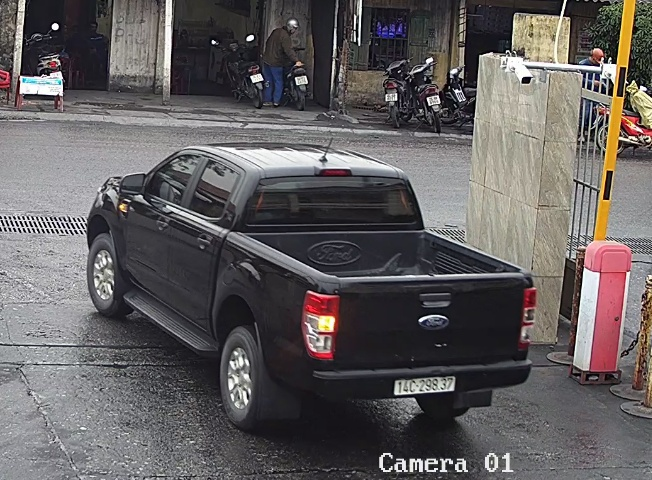vehicle plate: (392, 374, 462, 398)
